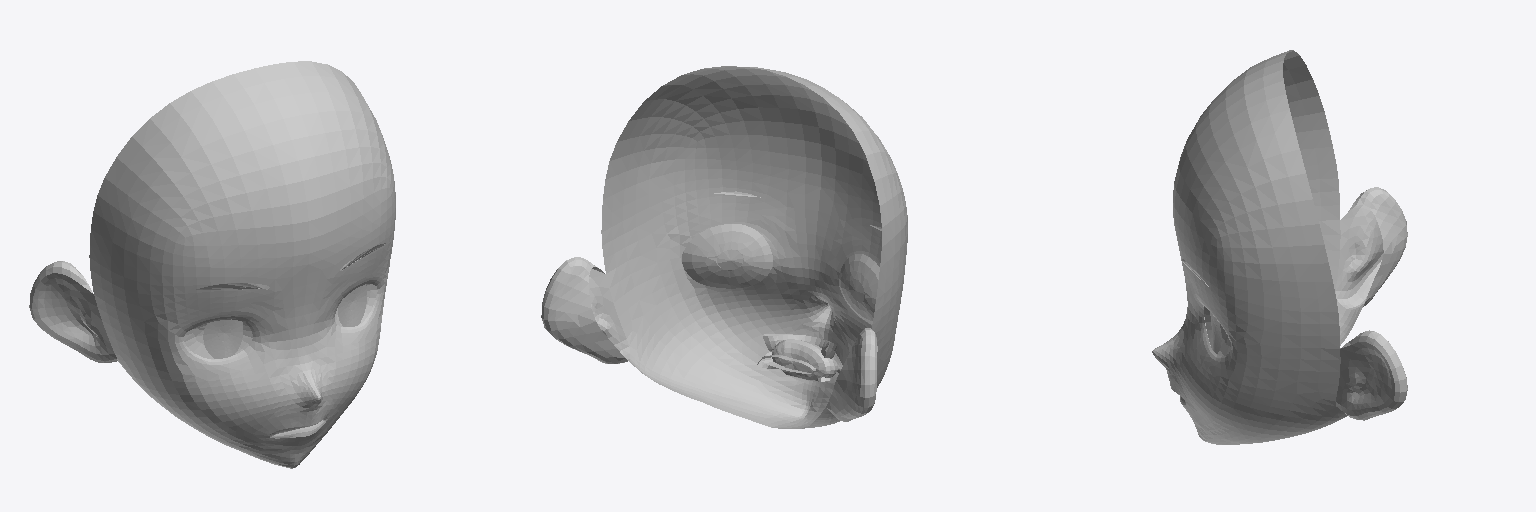
The model's file is mouthStretchRight.obj.
3 views of the same model, side by side, from view 1: azimuth 30°, elevation 25°; view 2: azimuth 150°, elevation 25°; view 3: azimuth 270°, elevation 25° (orthographic).
Visible parts, largest first — view 1: Face; view 2: Face; view 3: Face.
Boxes of the visible parts, x1,y1,x2,y2 form: Face: [29, 61, 395, 468]; Face: [541, 66, 907, 428]; Face: [1152, 50, 1407, 444].
Size of the model in its own units: 0.2176 by 0.2333 by 0.1449.